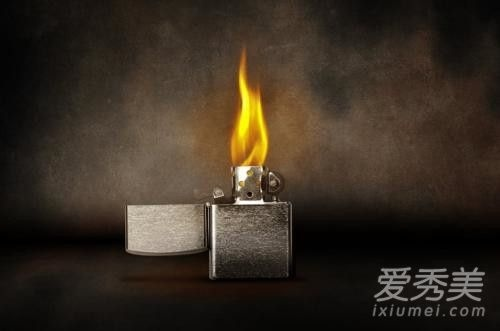fire: (228, 50, 269, 170)
